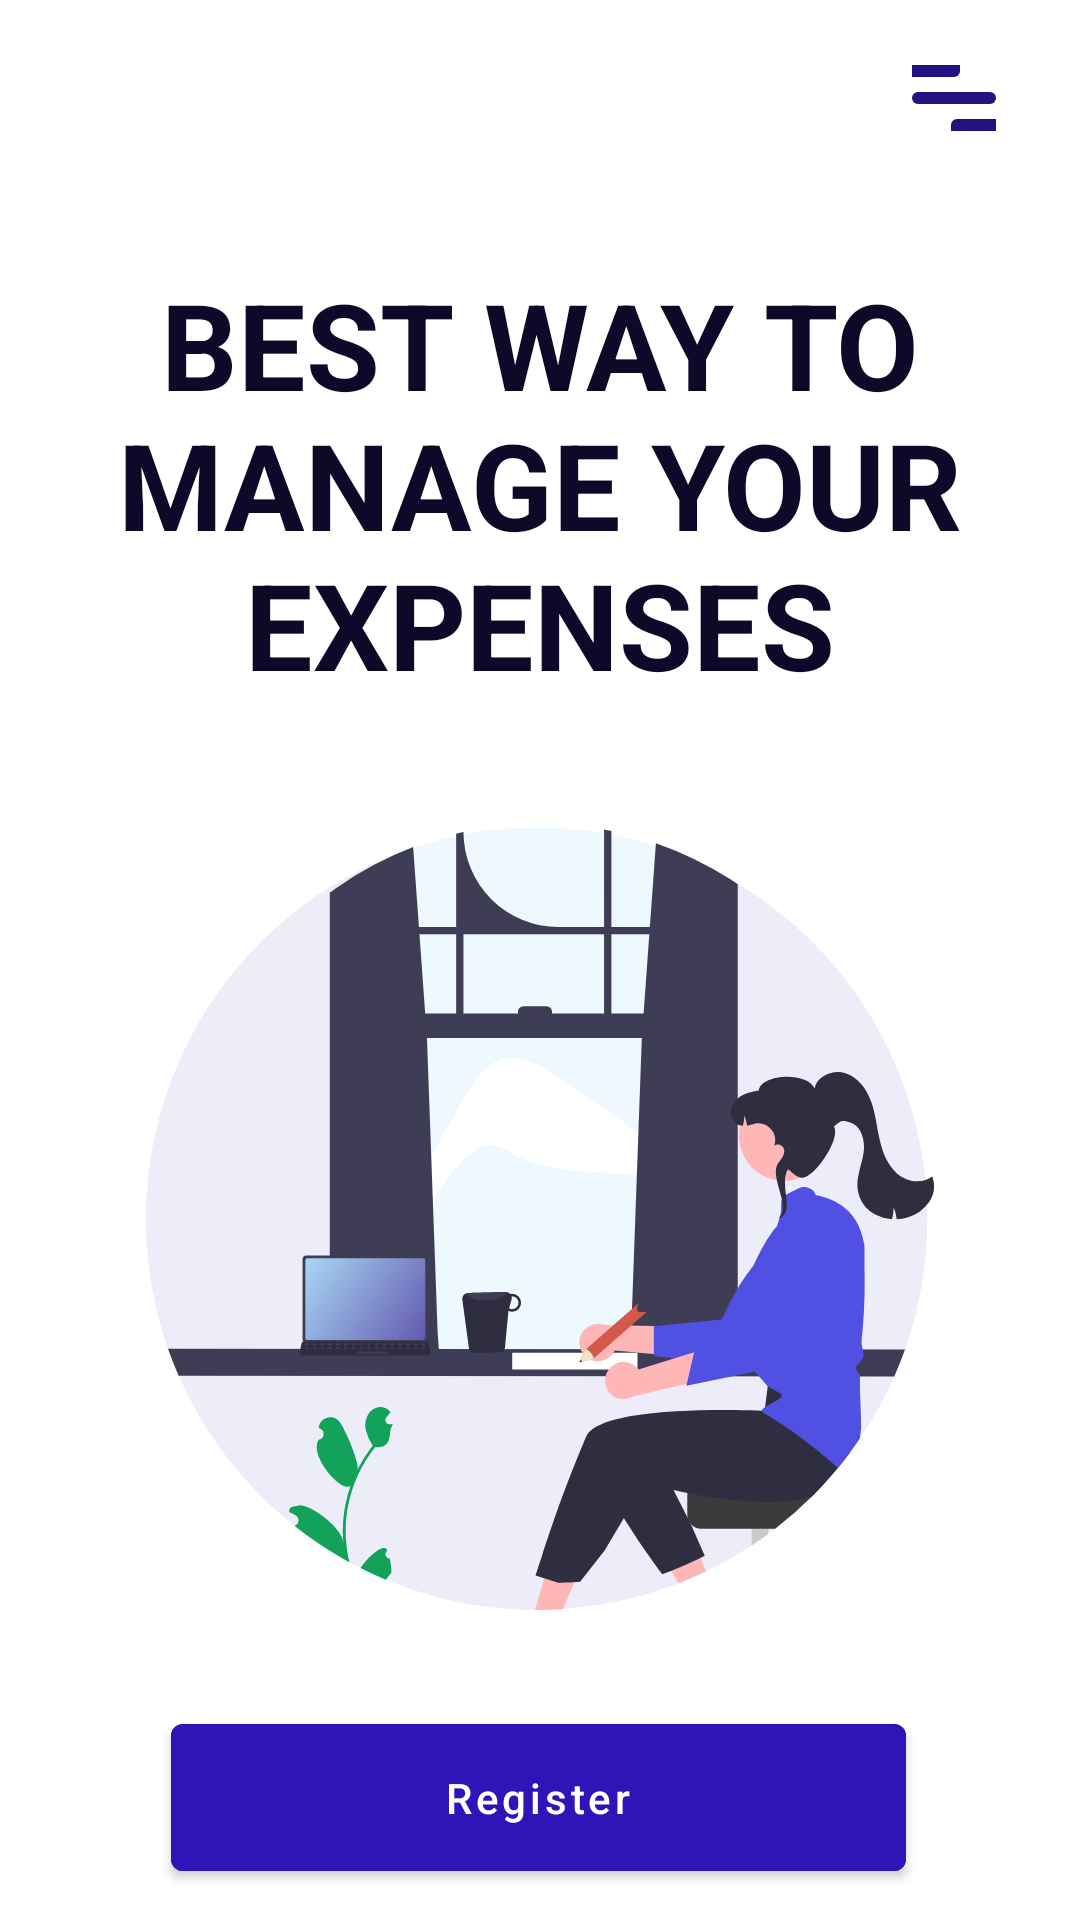

Icons on this 1080×1920 Android screen, each with the point to tap as point (x, y):
hamburger menu: point (954, 98)
